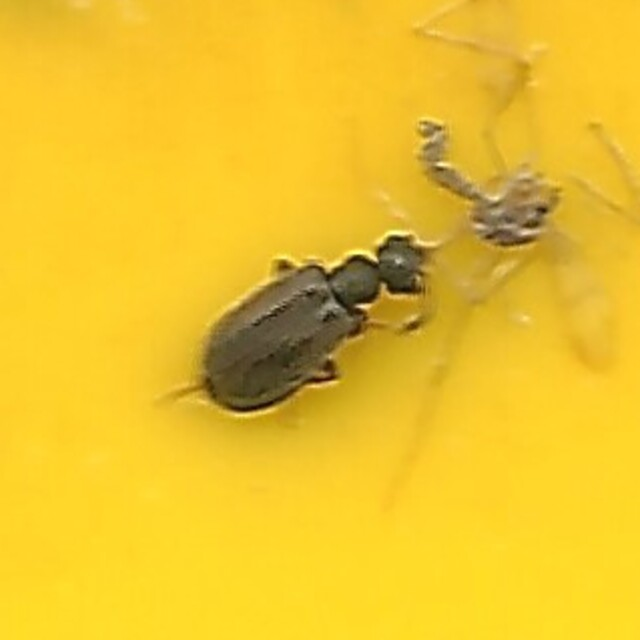Coleoptera: (201, 221, 439, 419)
